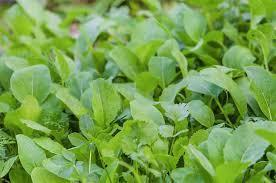Healthy-Pechay: (7, 0, 268, 183)
